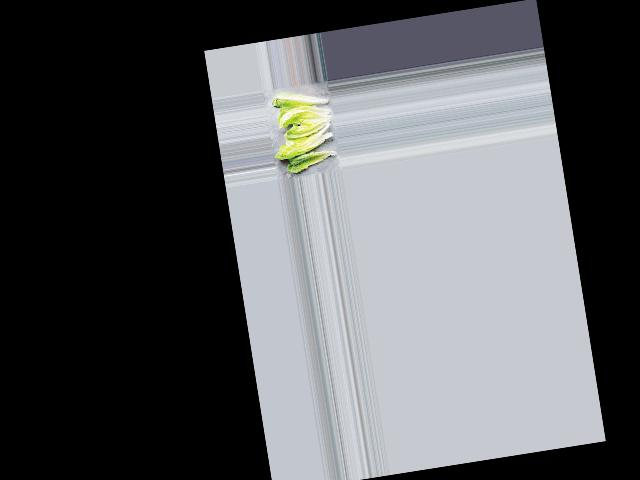lettuce: (285, 147, 340, 172)
